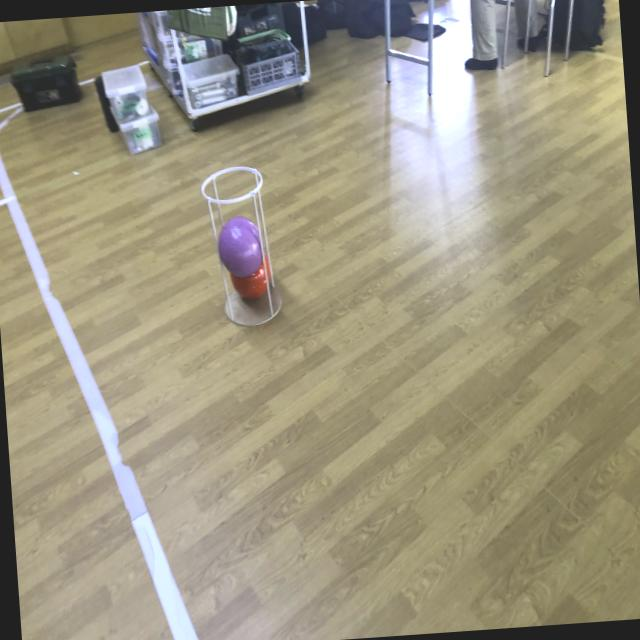purple_ball: (217, 216, 266, 274)
red_ball: (228, 256, 272, 302)
